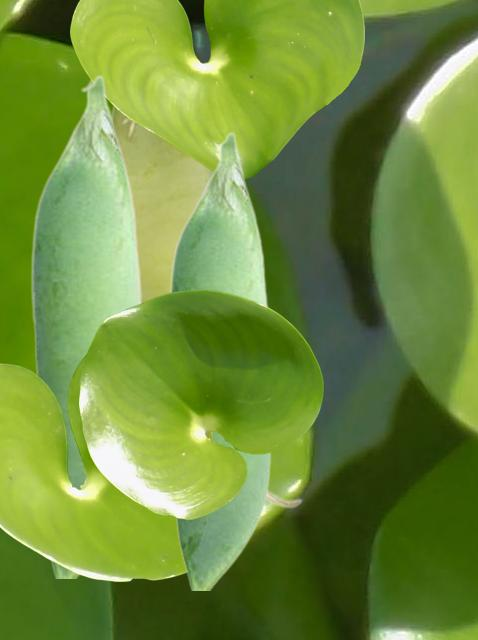pea: (80, 78, 303, 508), (30, 74, 142, 577), (168, 131, 270, 589)
